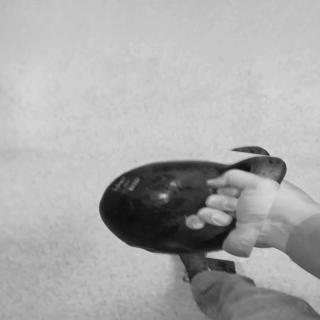kettlebell: (94, 142, 284, 259)
